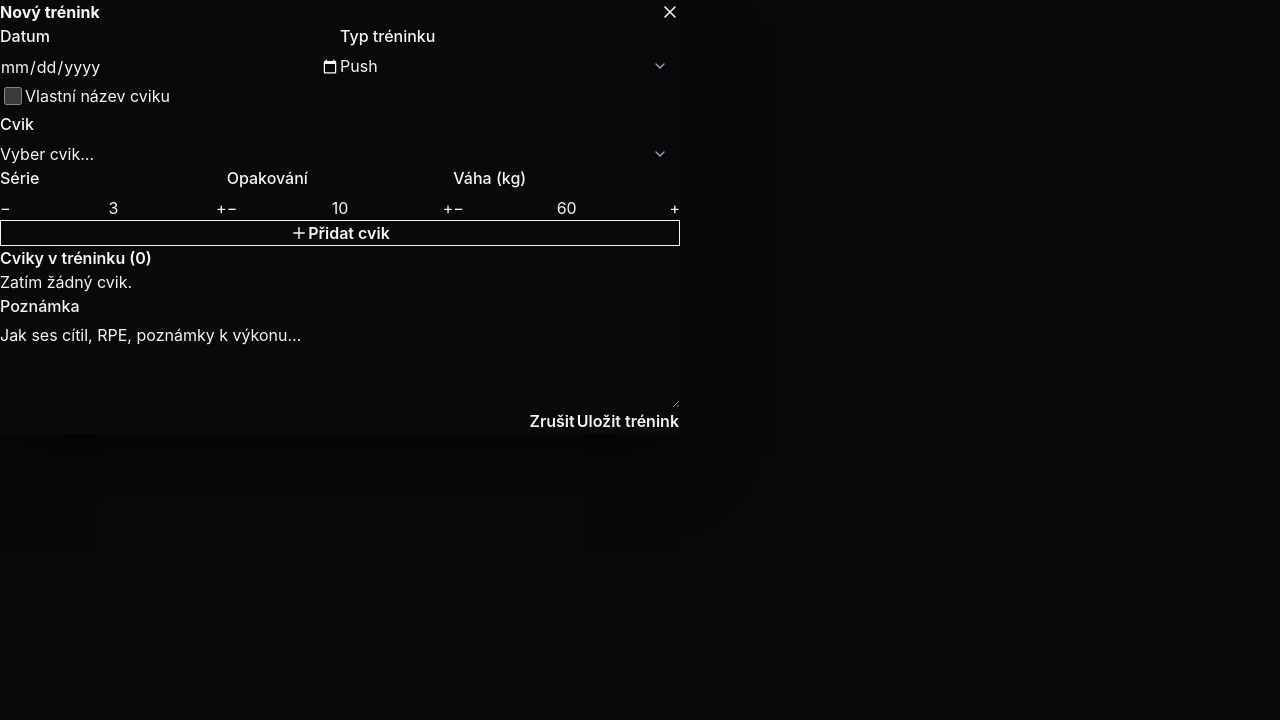
Test: WorkoutForm › does not save without a date or without exercises
The width and height of the screenshot is (1280, 720).
The date input is `required`, so the browser blocks the submit with its own message.
Click the button "Uložit trénink" at (628, 421), box [576, 408, 680, 434]
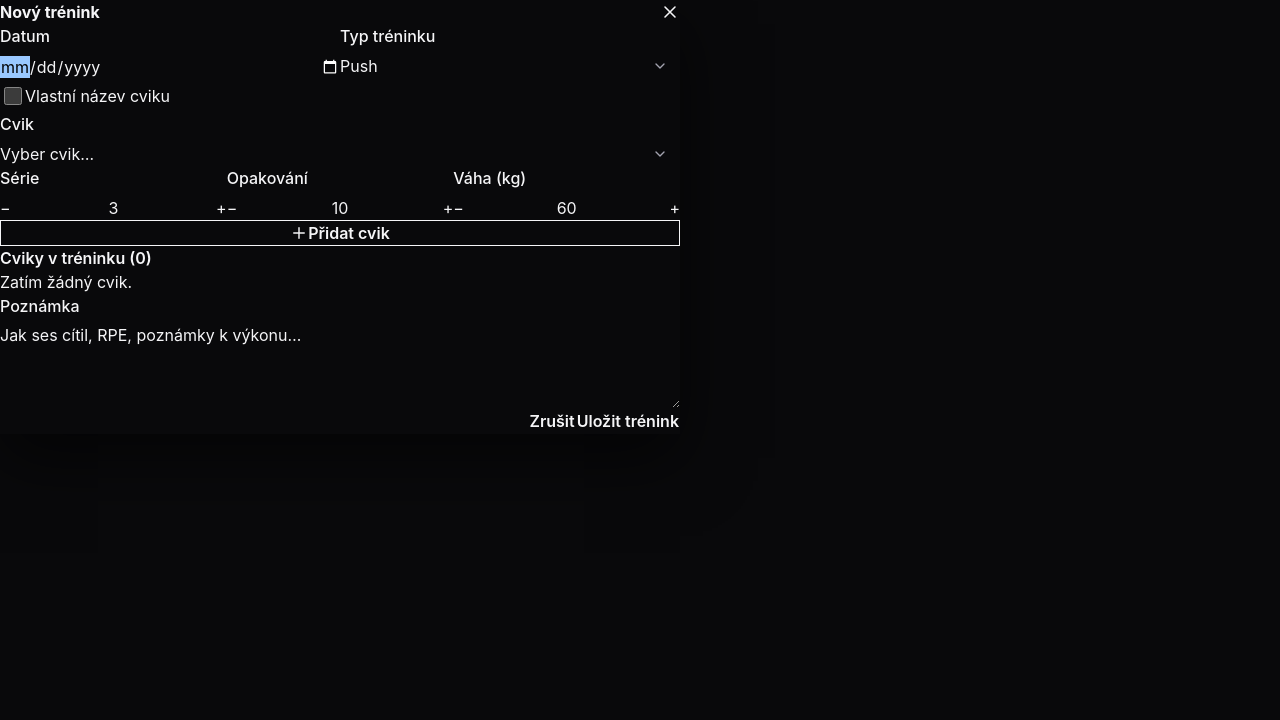
Type "2026-11-02" into the date field labelled "Datum" at (170, 67), box [0, 54, 340, 80]
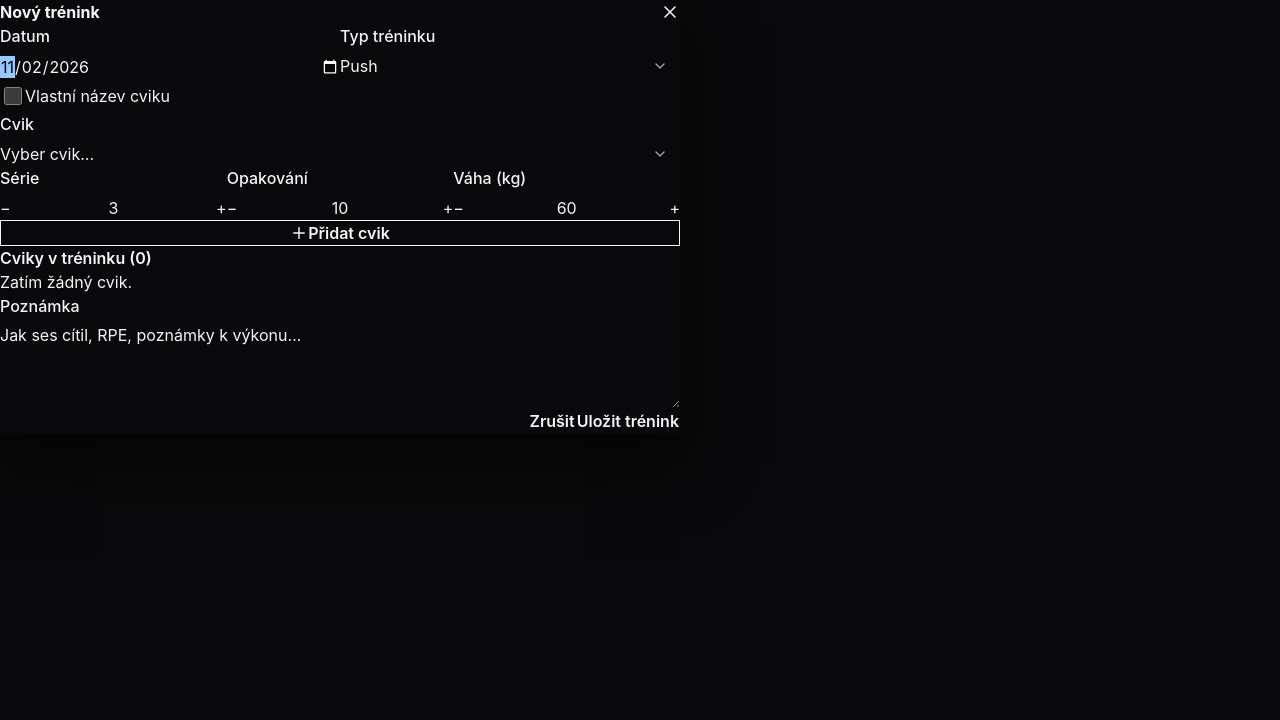
Click the button "Uložit trénink" at (628, 421), box [576, 408, 680, 434]
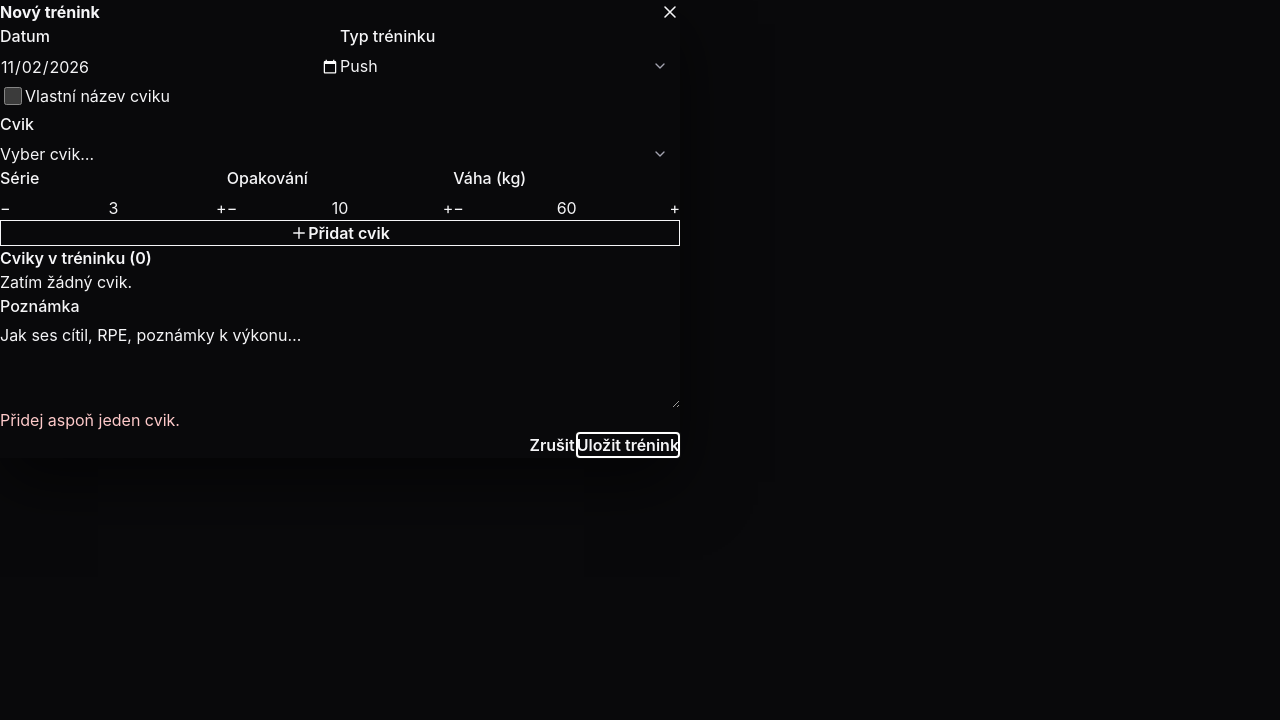
Expected: the message shows "cvik", [0, 410, 180, 430]
